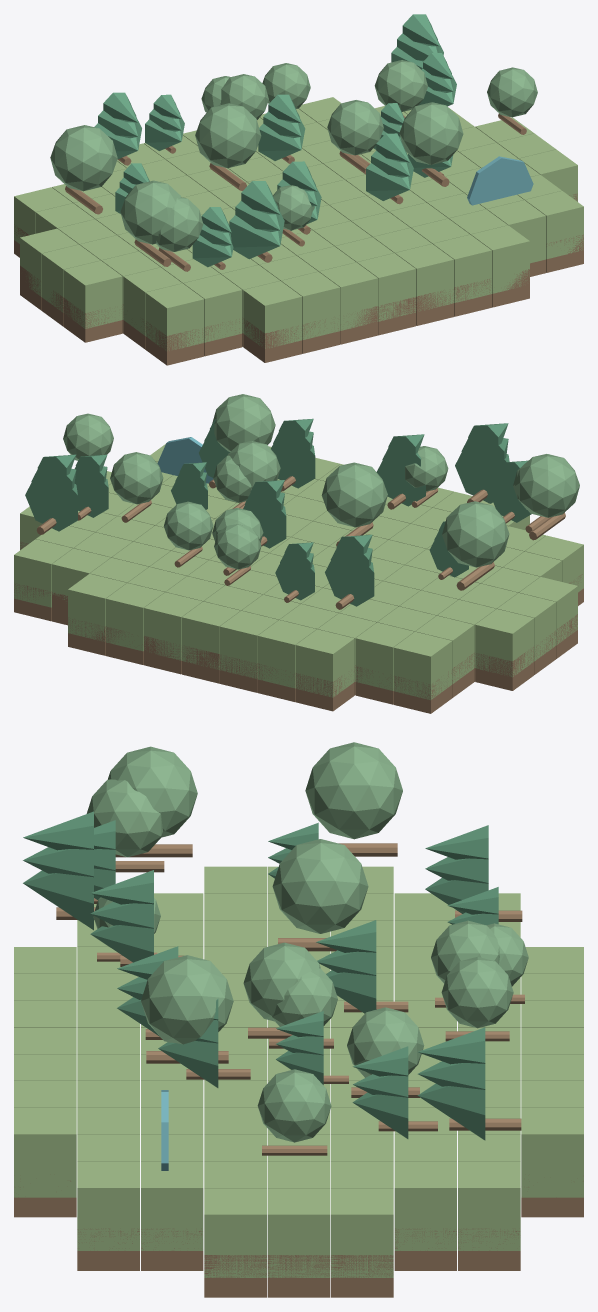
Rendered from earth_guardian_island.glb.
3 views of the same model, one above another, from view 1: azimuth 30°, elevation 25°; view 2: azimuth 150°, elevation 25°; view 3: azimuth 270°, elevation 25° (orthographic). The views are drawn at different scales.
Visible parts, largest first — view 1: earth_262, earth_019, earth_005, earth_051, earth_244, earth_268, earth_214, earth_033, earth_069, earth_141, earth_087, earth_187 (+96 smaller); view 2: earth_007, earth_035, earth_262, earth_001, earth_244, earth_214, earth_268, earth_021, earth_071, earth_053, earth_125, earth_175 (+99 smaller); view 3: earth_262, earth_244, earth_268, earth_191, earth_143, earth_159, earth_175, earth_187, earth_177, earth_189, earth_185, earth_193 (+101 smaller).
Boxes of the visible parts, bbox=[...] form: earth_262: bbox=[50, 125, 117, 191]; earth_019: bbox=[145, 283, 204, 350]; earth_005: bbox=[63, 260, 122, 328]; earth_051: bbox=[243, 281, 302, 348]; earth_244: bbox=[195, 103, 261, 168]; earth_268: bbox=[399, 102, 463, 164]; earth_214: bbox=[120, 180, 181, 244]; earth_033: bbox=[183, 274, 242, 342]; earth_069: bbox=[281, 271, 340, 339]; earth_141: bbox=[433, 234, 491, 302]; earth_087: bbox=[319, 262, 378, 330]; earth_187: bbox=[525, 191, 583, 259]; earth_007: bbox=[393, 631, 452, 700]; earth_035: bbox=[295, 629, 354, 697]; earth_262: bbox=[442, 501, 509, 567]; earth_001: bbox=[475, 609, 534, 677]; earth_244: bbox=[321, 462, 387, 527]; earth_214: bbox=[515, 454, 579, 517]; earth_268: bbox=[212, 394, 275, 451]; earth_021: bbox=[355, 622, 414, 690]; earth_071: bbox=[219, 610, 278, 678]; earth_053: bbox=[257, 620, 316, 688]; earth_125: bbox=[106, 583, 164, 651]; earth_175: bbox=[14, 539, 72, 607]; earth_262: bbox=[305, 742, 402, 839]; earth_244: bbox=[272, 839, 368, 933]; earth_268: bbox=[141, 955, 233, 1044]; earth_191: bbox=[267, 1188, 330, 1277]; earth_143: bbox=[521, 1108, 583, 1197]; earth_159: bbox=[14, 1108, 76, 1197]; earth_175: bbox=[458, 1161, 520, 1250]; earth_187: bbox=[77, 1161, 139, 1250]; earth_177: bbox=[394, 1161, 456, 1250]; earth_189: bbox=[331, 1188, 393, 1277]; earth_185: bbox=[141, 1161, 203, 1250]; earth_193: bbox=[204, 1188, 266, 1277].
Size of the model in its own units: 9.22 by 2.95 by 6.38.
